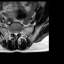CCS_severe_stenosis: (15, 30, 16, 37)
LFS_stenosis: (18, 28, 20, 35)
LLS_normal: (16, 30, 18, 36)
RFS_stenosis: (11, 29, 13, 35)
RLS_stenosis: (13, 30, 15, 36)
